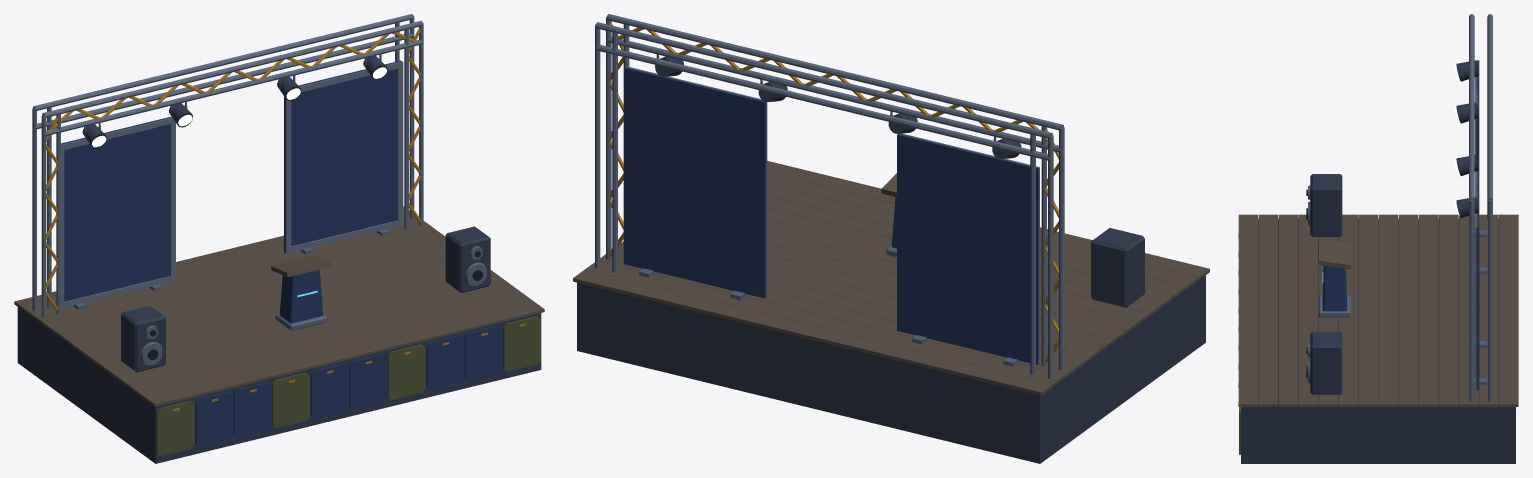
Rendered from bw_targ_stage.glb.
3 renders of one model, left to right at view 1: azimuth 30°, elevation 25°; view 2: azimuth 150°, elevation 25°; view 3: azimuth 270°, elevation 25°, orthographic. The views are drawn at different scales.
Visible parts, largest first — view 1: blue_inlay.006, blue_inlay.003, blue_inlay.007, blue_inlay.002, blue_inlay.004, blue_inlay.005, blue_inlay.008; view 2: blue_inlay.006, blue_inlay.002, blue_inlay.003, blue_inlay.007, blue_inlay.005, blue_inlay.008; view 3: blue_inlay.003, blue_inlay.002, blue_inlay.007, blue_inlay.006, blue_inlay.008.
Boxes of the visible parts, bbox=[...] form: blue_inlay.006: bbox=[61, 60, 502, 446]; blue_inlay.003: bbox=[14, 206, 544, 406]; blue_inlay.007: bbox=[32, 14, 423, 317]; blue_inlay.002: bbox=[17, 55, 541, 463]; blue_inlay.004: bbox=[156, 316, 541, 456]; blue_inlay.005: bbox=[46, 28, 526, 411]; blue_inlay.008: bbox=[73, 54, 487, 365]; blue_inlay.006: bbox=[624, 67, 1038, 364]; blue_inlay.002: bbox=[577, 56, 1205, 463]; blue_inlay.003: bbox=[573, 161, 1209, 395]; blue_inlay.007: bbox=[595, 14, 1064, 378]; blue_inlay.005: bbox=[610, 23, 1058, 362]; blue_inlay.008: bbox=[639, 54, 1020, 366]; blue_inlay.003: bbox=[1238, 214, 1518, 406]; blue_inlay.002: bbox=[1241, 60, 1515, 463]; blue_inlay.007: bbox=[1469, 14, 1492, 401]; blue_inlay.006: bbox=[1322, 60, 1479, 390]; blue_inlay.008: bbox=[1308, 185, 1486, 384].
Size of the model in its own units: 8 by 5.2 by 5.
